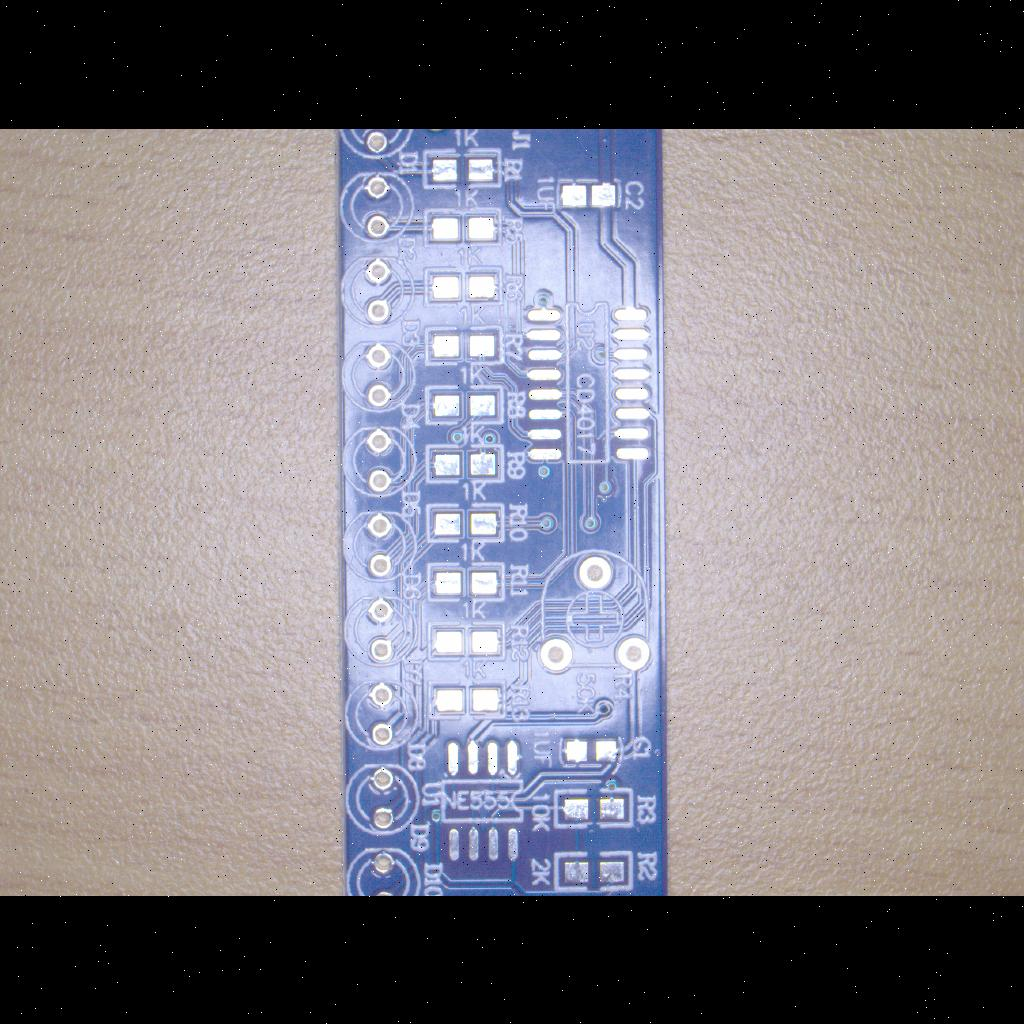NG: (522, 294, 658, 476), (440, 732, 530, 870), (546, 785, 638, 831), (420, 321, 508, 367), (550, 848, 638, 894), (424, 500, 508, 548), (422, 382, 508, 428), (424, 618, 510, 664), (424, 440, 508, 486), (424, 558, 508, 604), (420, 146, 506, 190), (422, 678, 510, 720), (420, 206, 506, 248), (420, 263, 506, 305), (552, 172, 626, 214), (559, 736, 627, 768)
